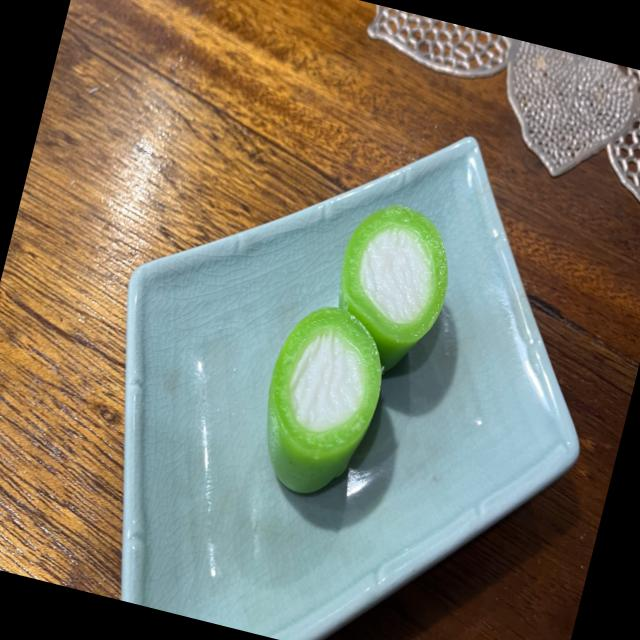nona-manis: (266, 306, 381, 493), (338, 204, 447, 371)
